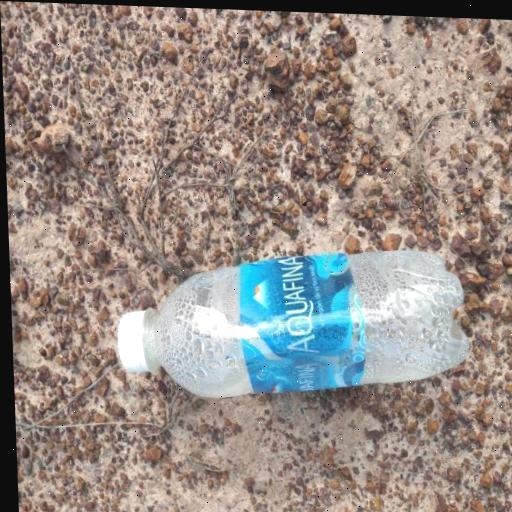bottle: (101, 194, 500, 435)
